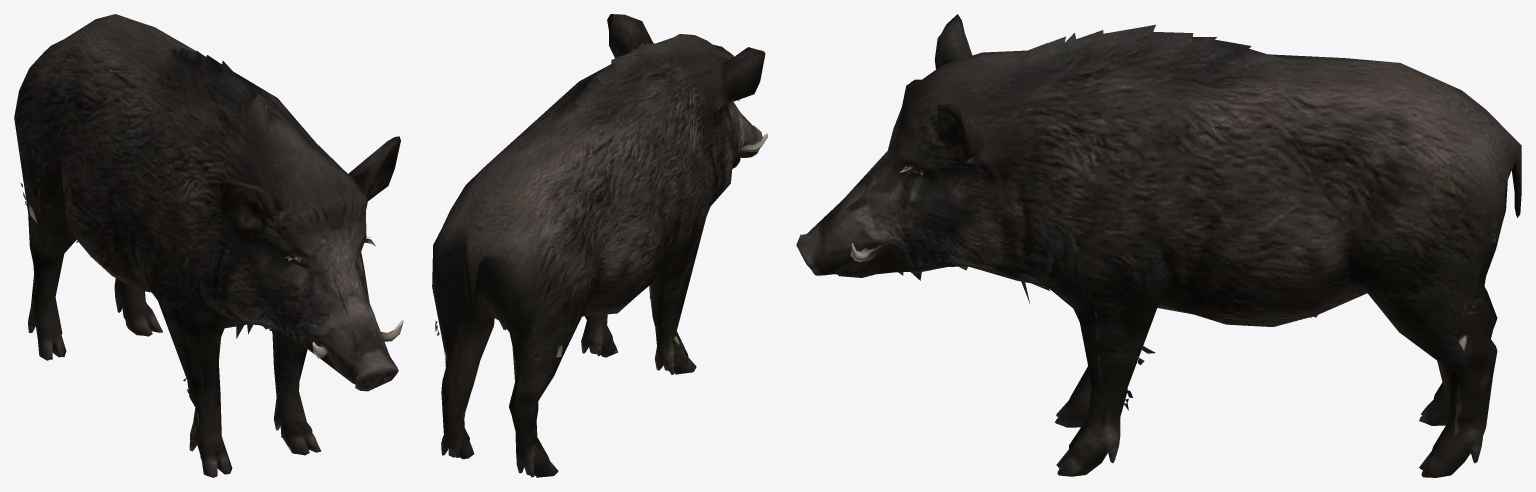
The model's file is matriarca_javali_lod.glb.
The picture shows the model from 3 angles, left to right: view 1: azimuth 30°, elevation 25°; view 2: azimuth 150°, elevation 25°; view 3: azimuth 270°, elevation 25°; orthographic projection. The views are drawn at different scales.
Parts seen in each view (by area): view 1: Matriarca; view 2: Matriarca; view 3: Matriarca.
Part boxes in pixels (x1=…): Matriarca: x1=14, y1=14, x2=403, y2=477; Matriarca: x1=432, y1=14, x2=767, y2=477; Matriarca: x1=796, y1=14, x2=1521, y2=477.
Size of the model in its own units: 0.332 by 0.6348 by 0.9922.
Materials: 1 (1 with a texture image).
